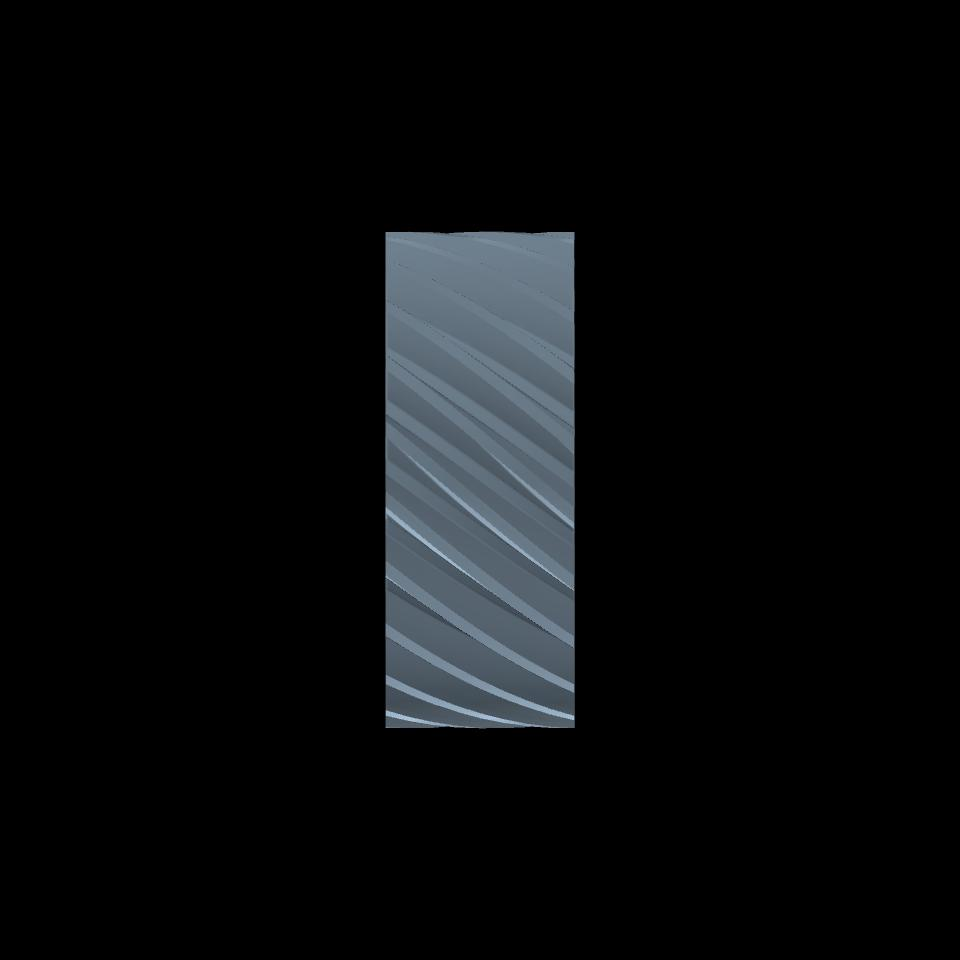Helical: (386, 231, 574, 727)
